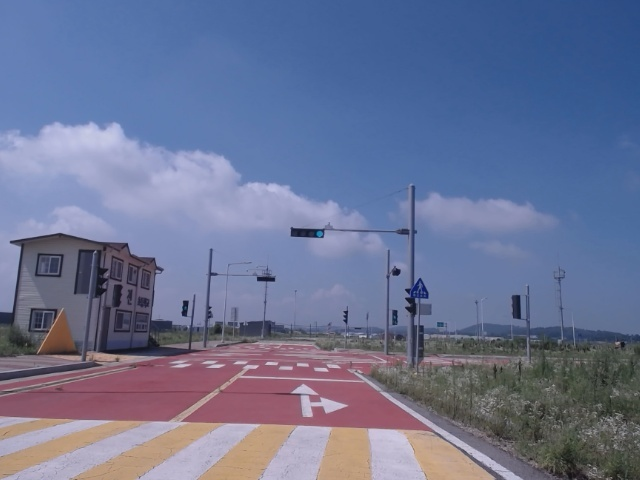straight_green_4: (291, 229, 325, 238)
